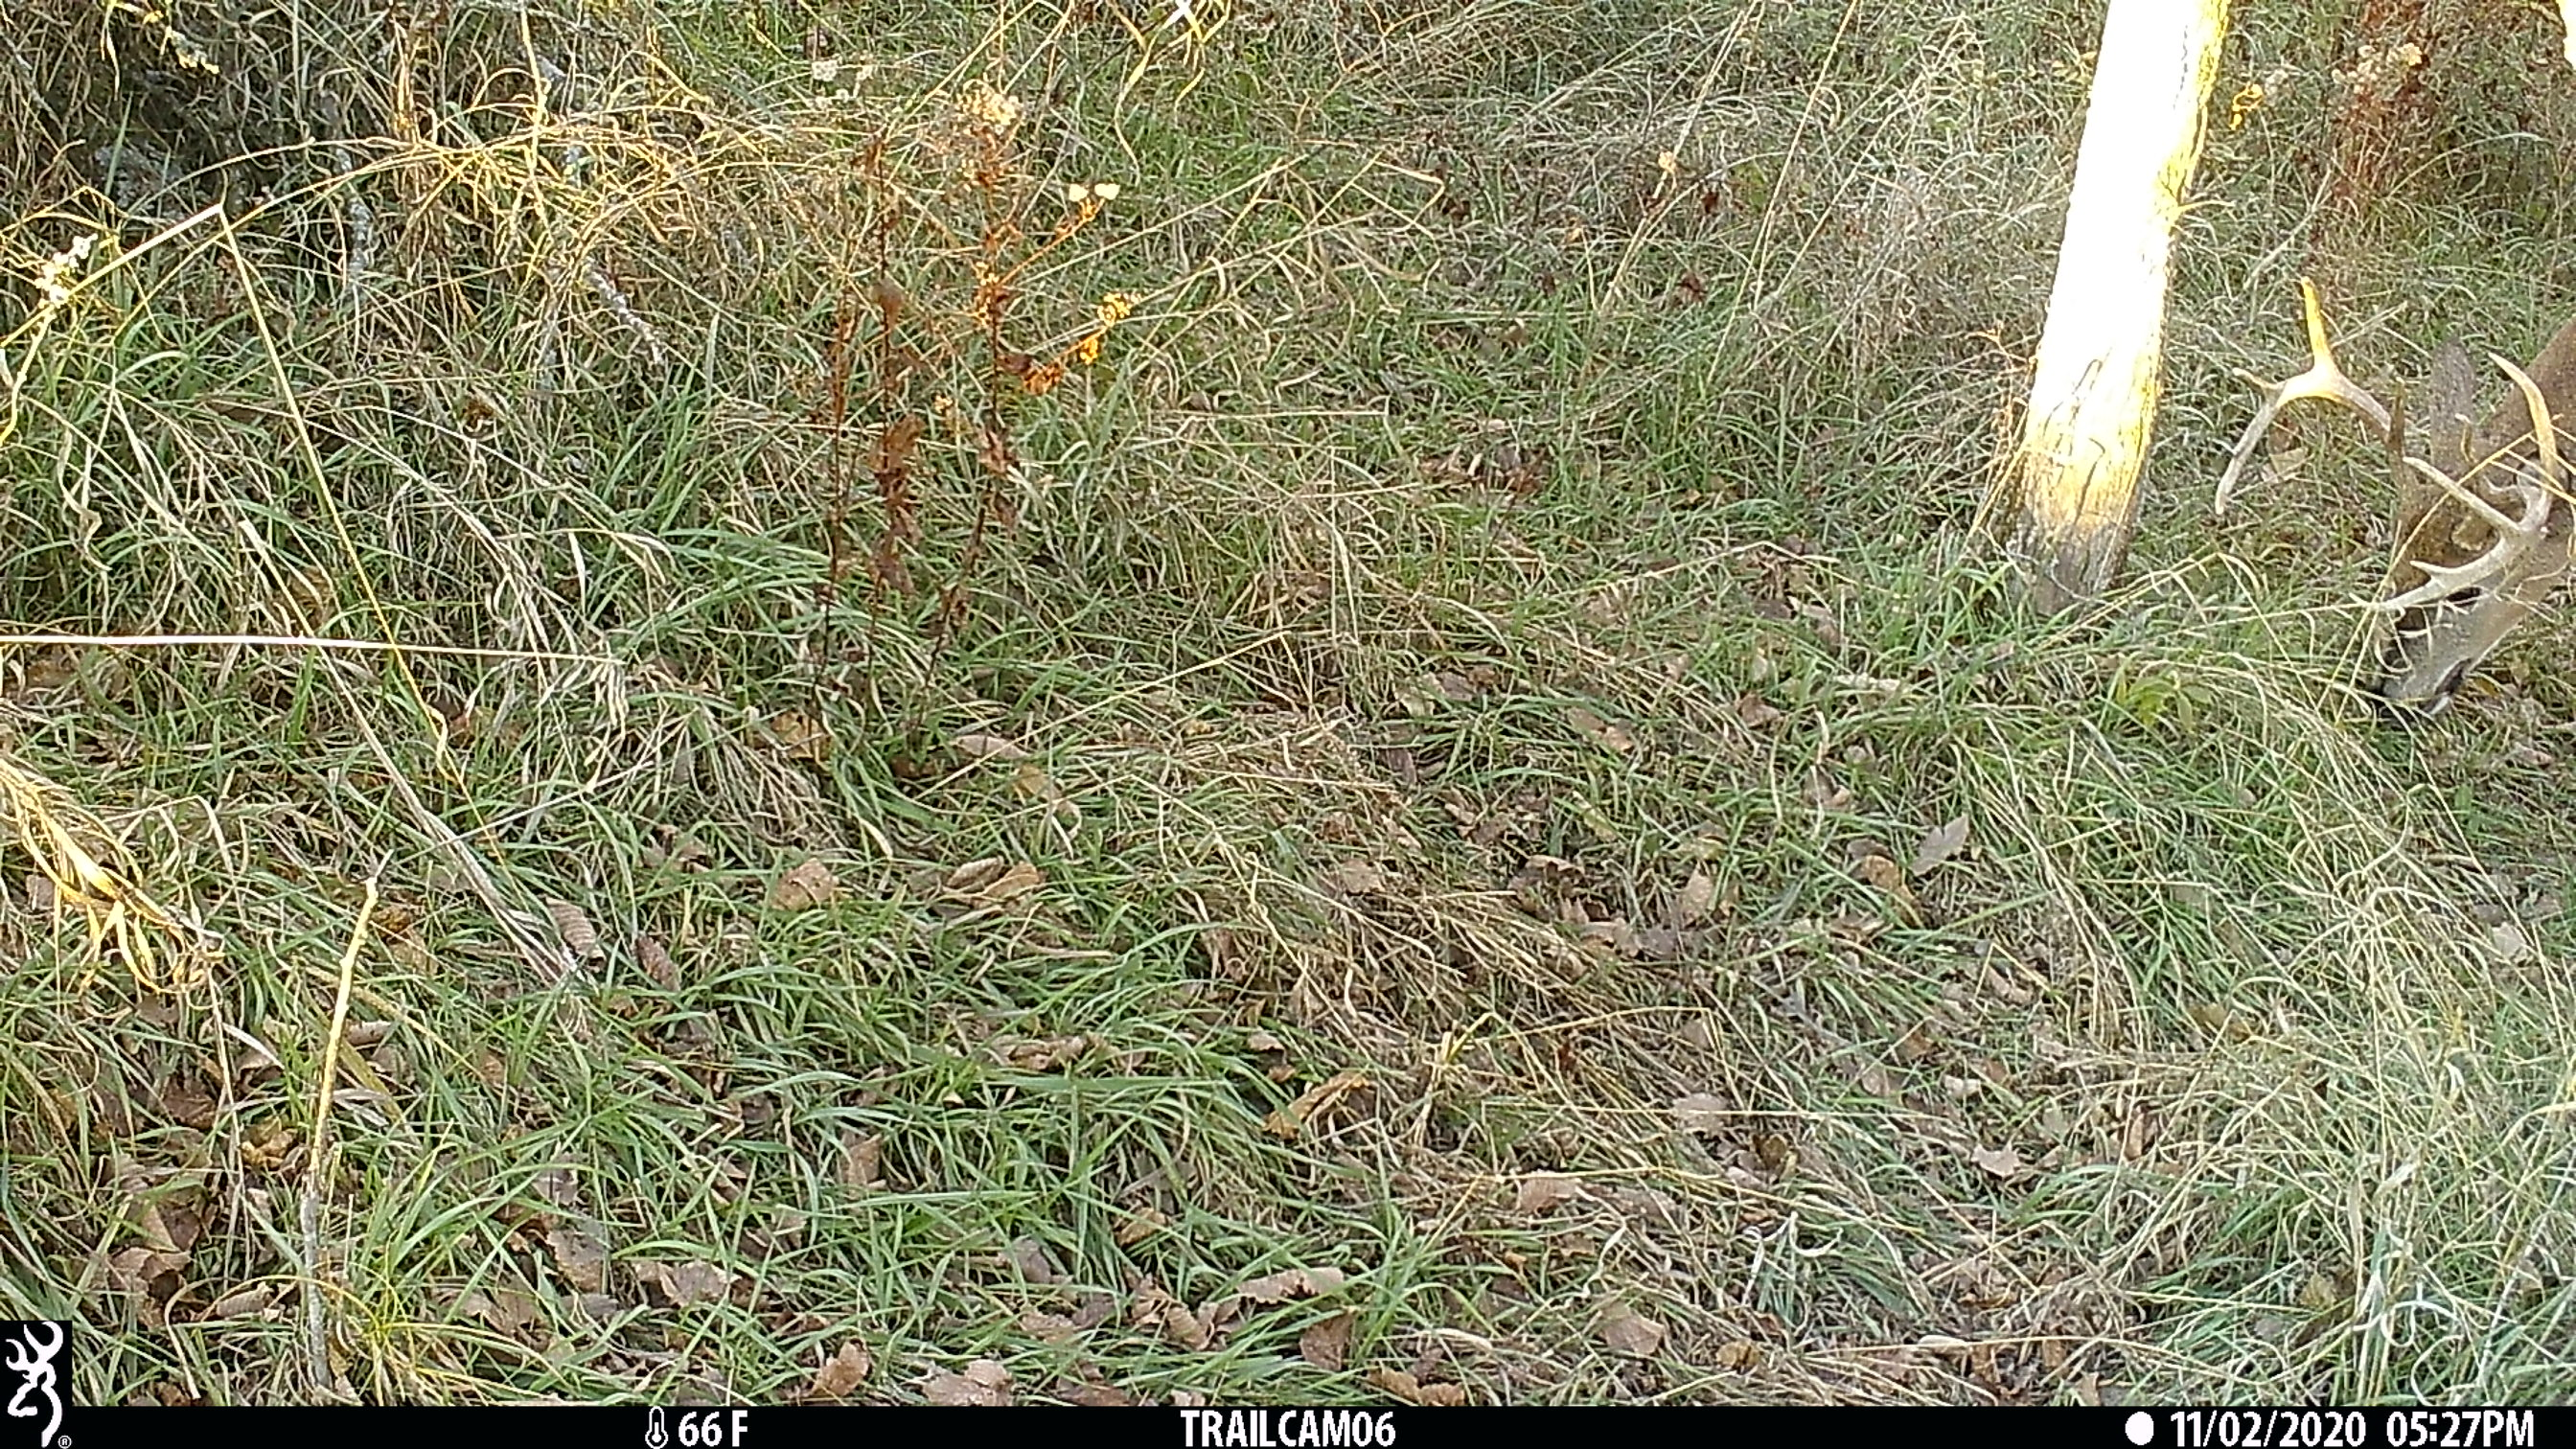DeerBuck: (2200, 270, 2576, 727)
DeerBuckHead: (2201, 268, 2560, 728)
